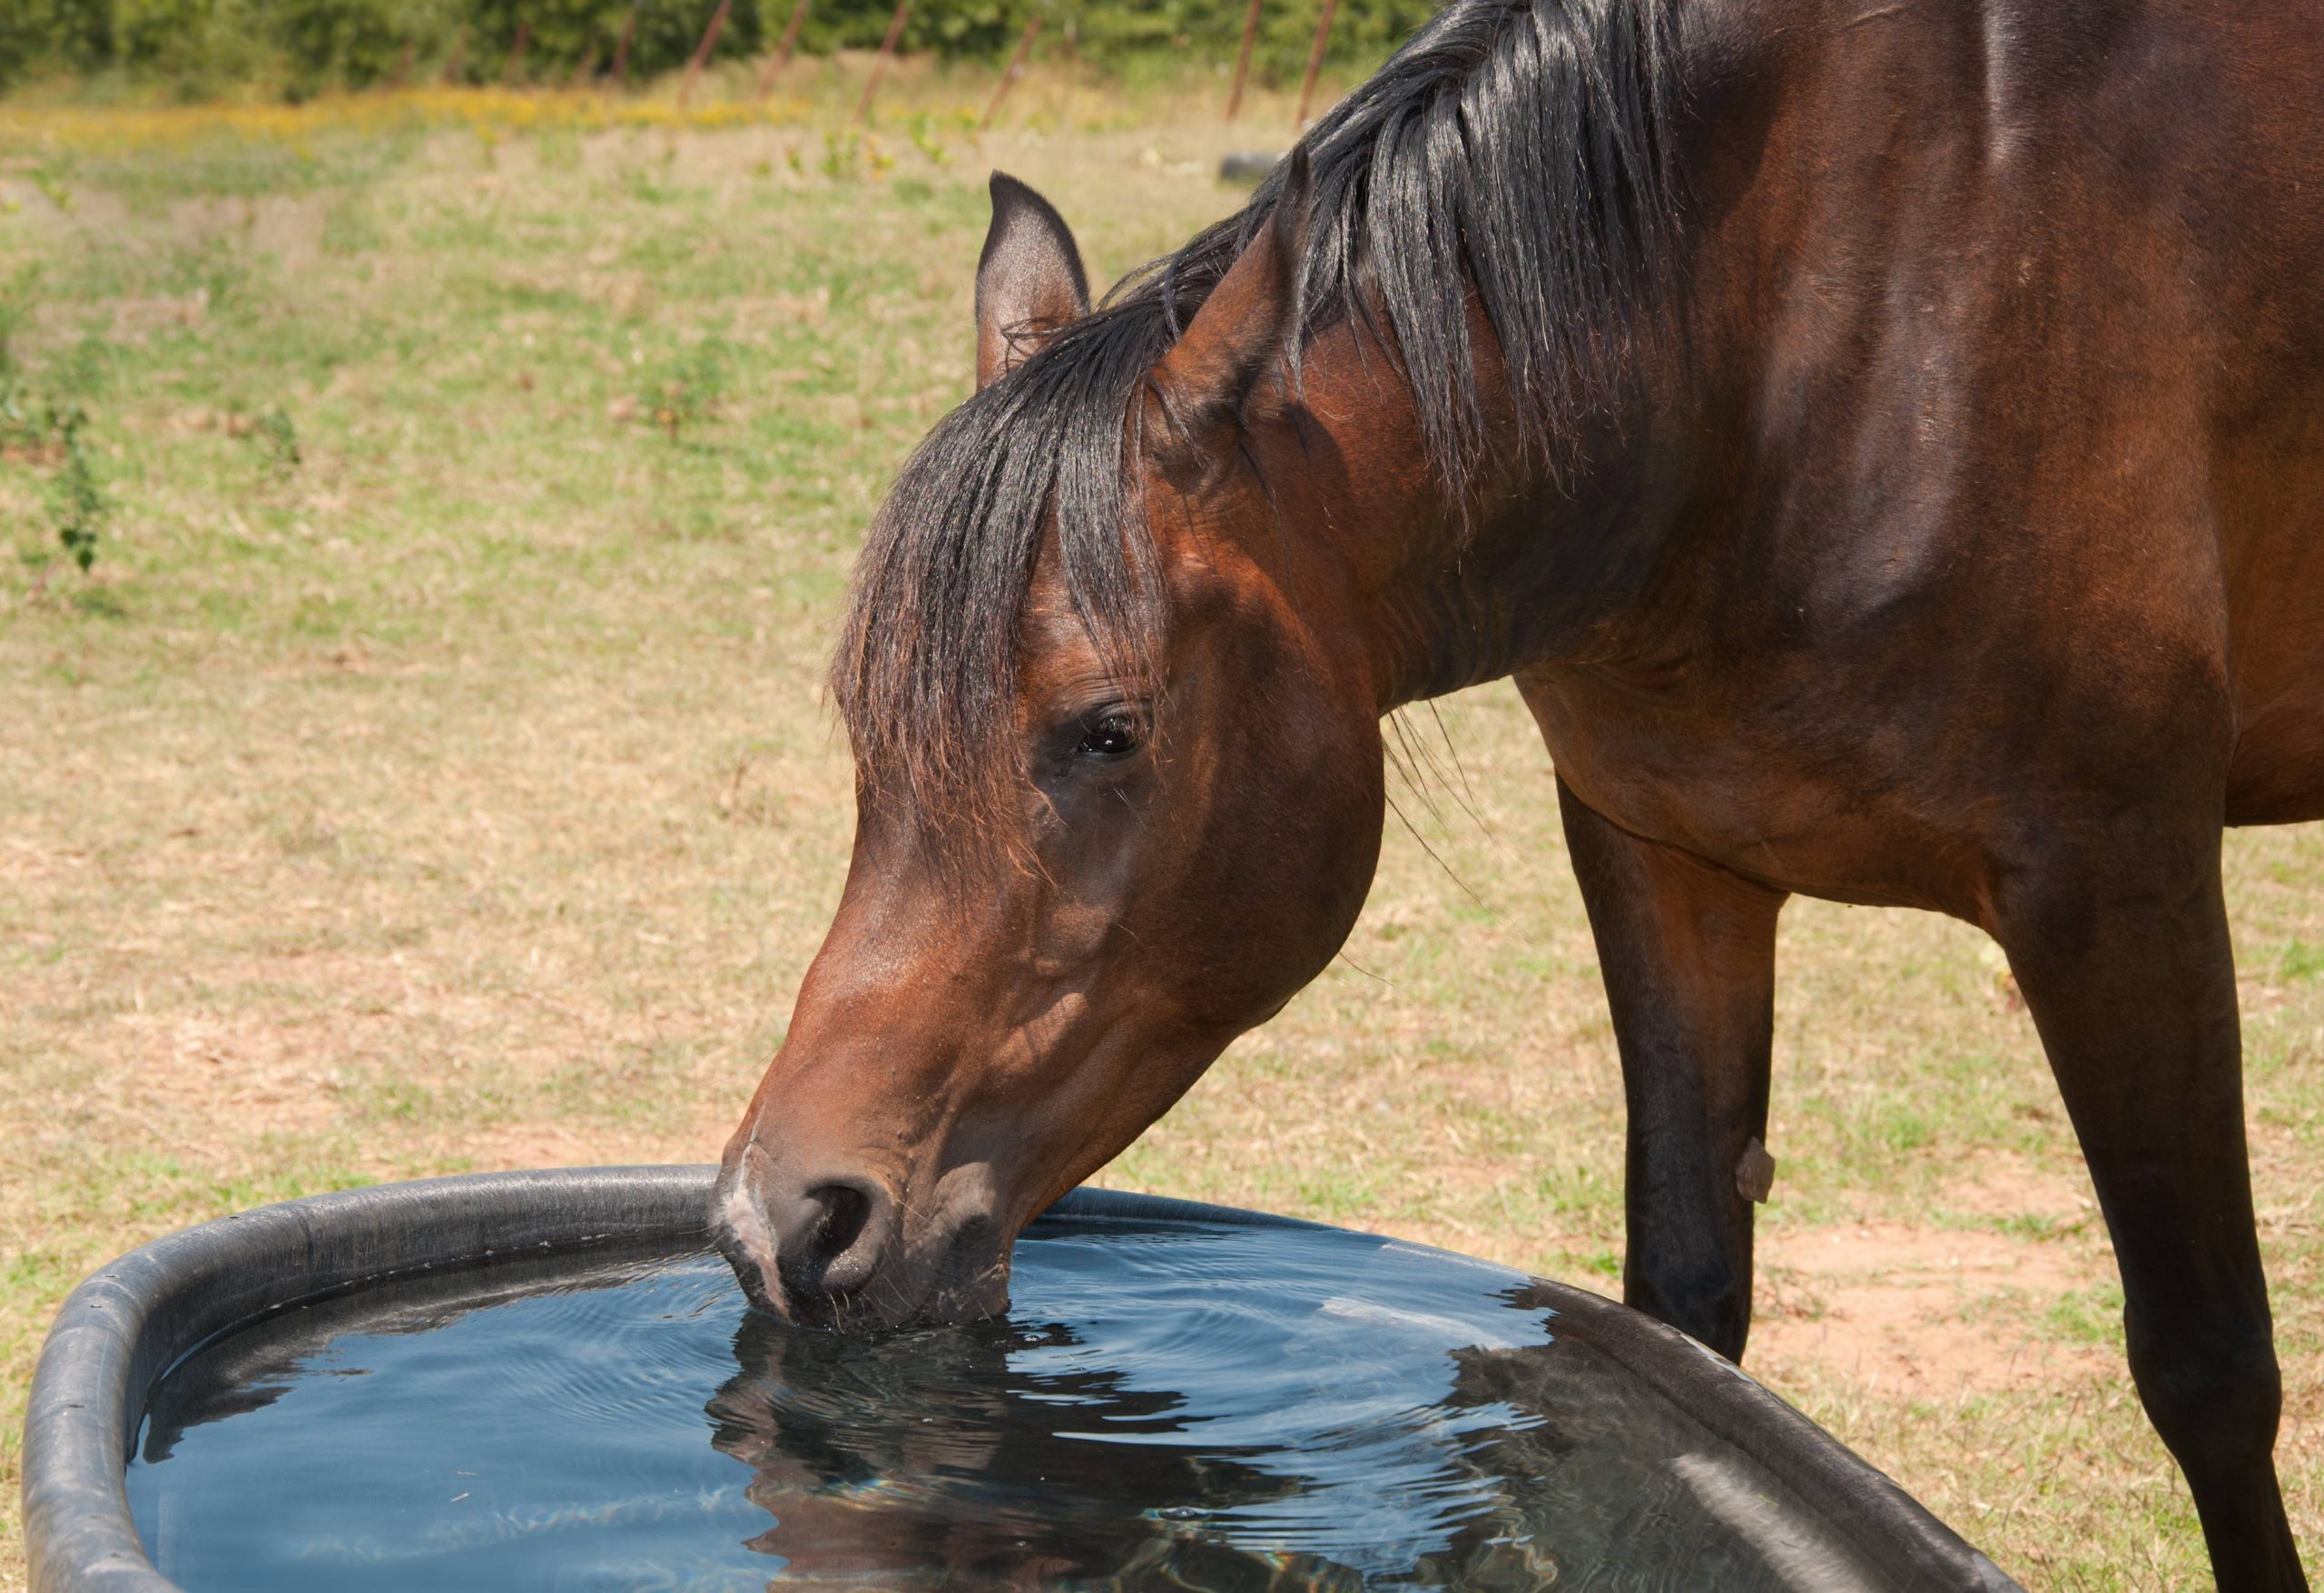Horse: (634, 136, 2257, 1325)
